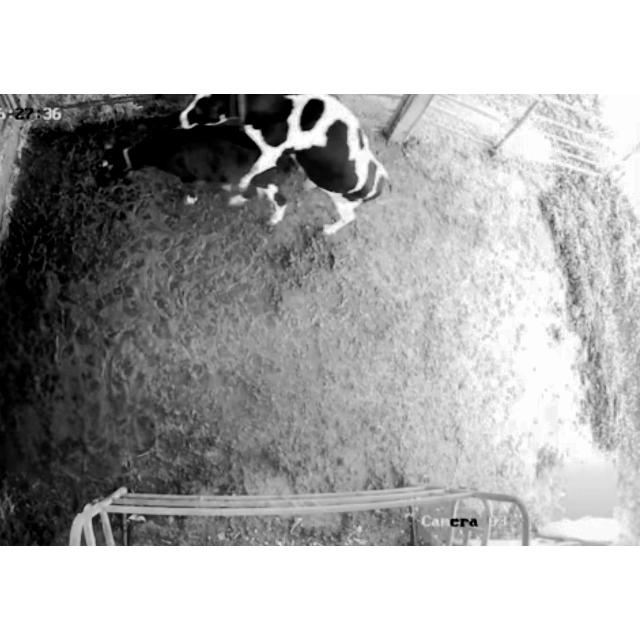ride: (175, 95, 391, 251)
